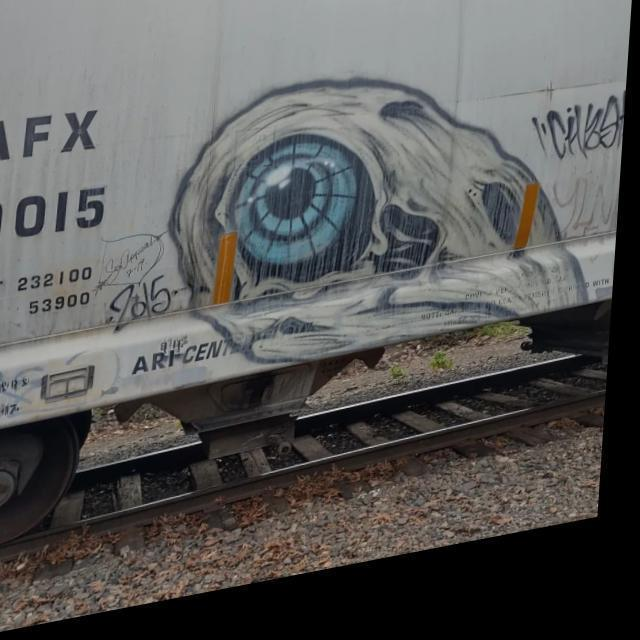nonspitting: (535, 95, 623, 160), (132, 335, 232, 376), (110, 273, 171, 334)
spitting: (170, 76, 587, 366)
